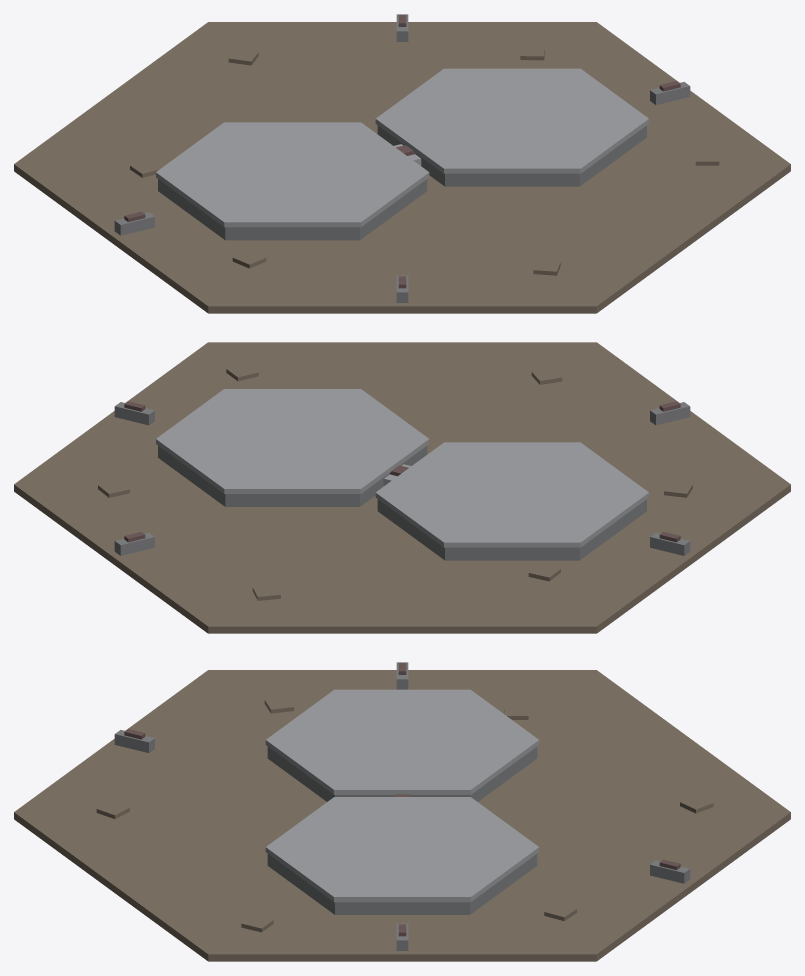
Rendered from resonance_trap_s2_100.glb.
3 views of the same model, one above another, from view 1: azimuth 30°, elevation 25°; view 2: azimuth 150°, elevation 25°; view 3: azimuth 270°, elevation 25° (orthographic).
Visible parts, largest first — view 1: ResonanceTrap_s2; view 2: ResonanceTrap_s2; view 3: ResonanceTrap_s2.
Boxes of the visible parts, x1,y1,x2,y2 form: ResonanceTrap_s2: [14, 14, 790, 313]; ResonanceTrap_s2: [14, 342, 790, 633]; ResonanceTrap_s2: [14, 662, 790, 961].
Bounding box in the file's own units: 1.7 × 0.072 × 1.96.
